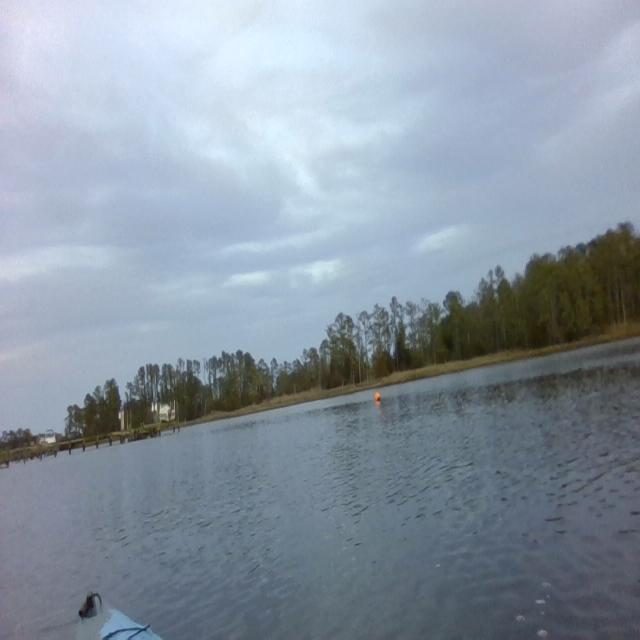Buoy: (374, 390, 382, 404)
